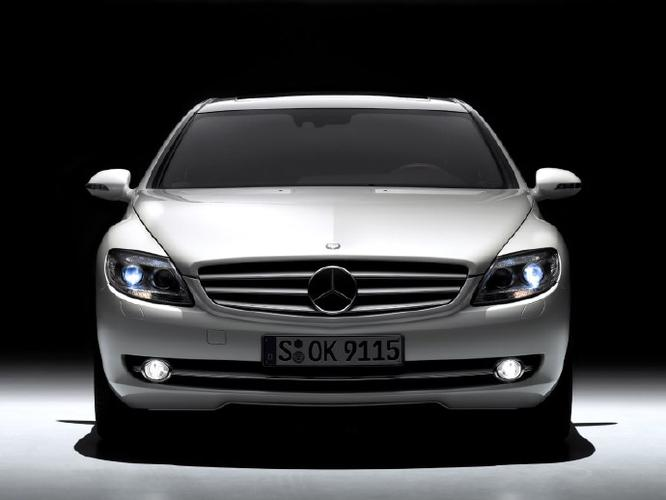汽车: (76, 85, 589, 453)
